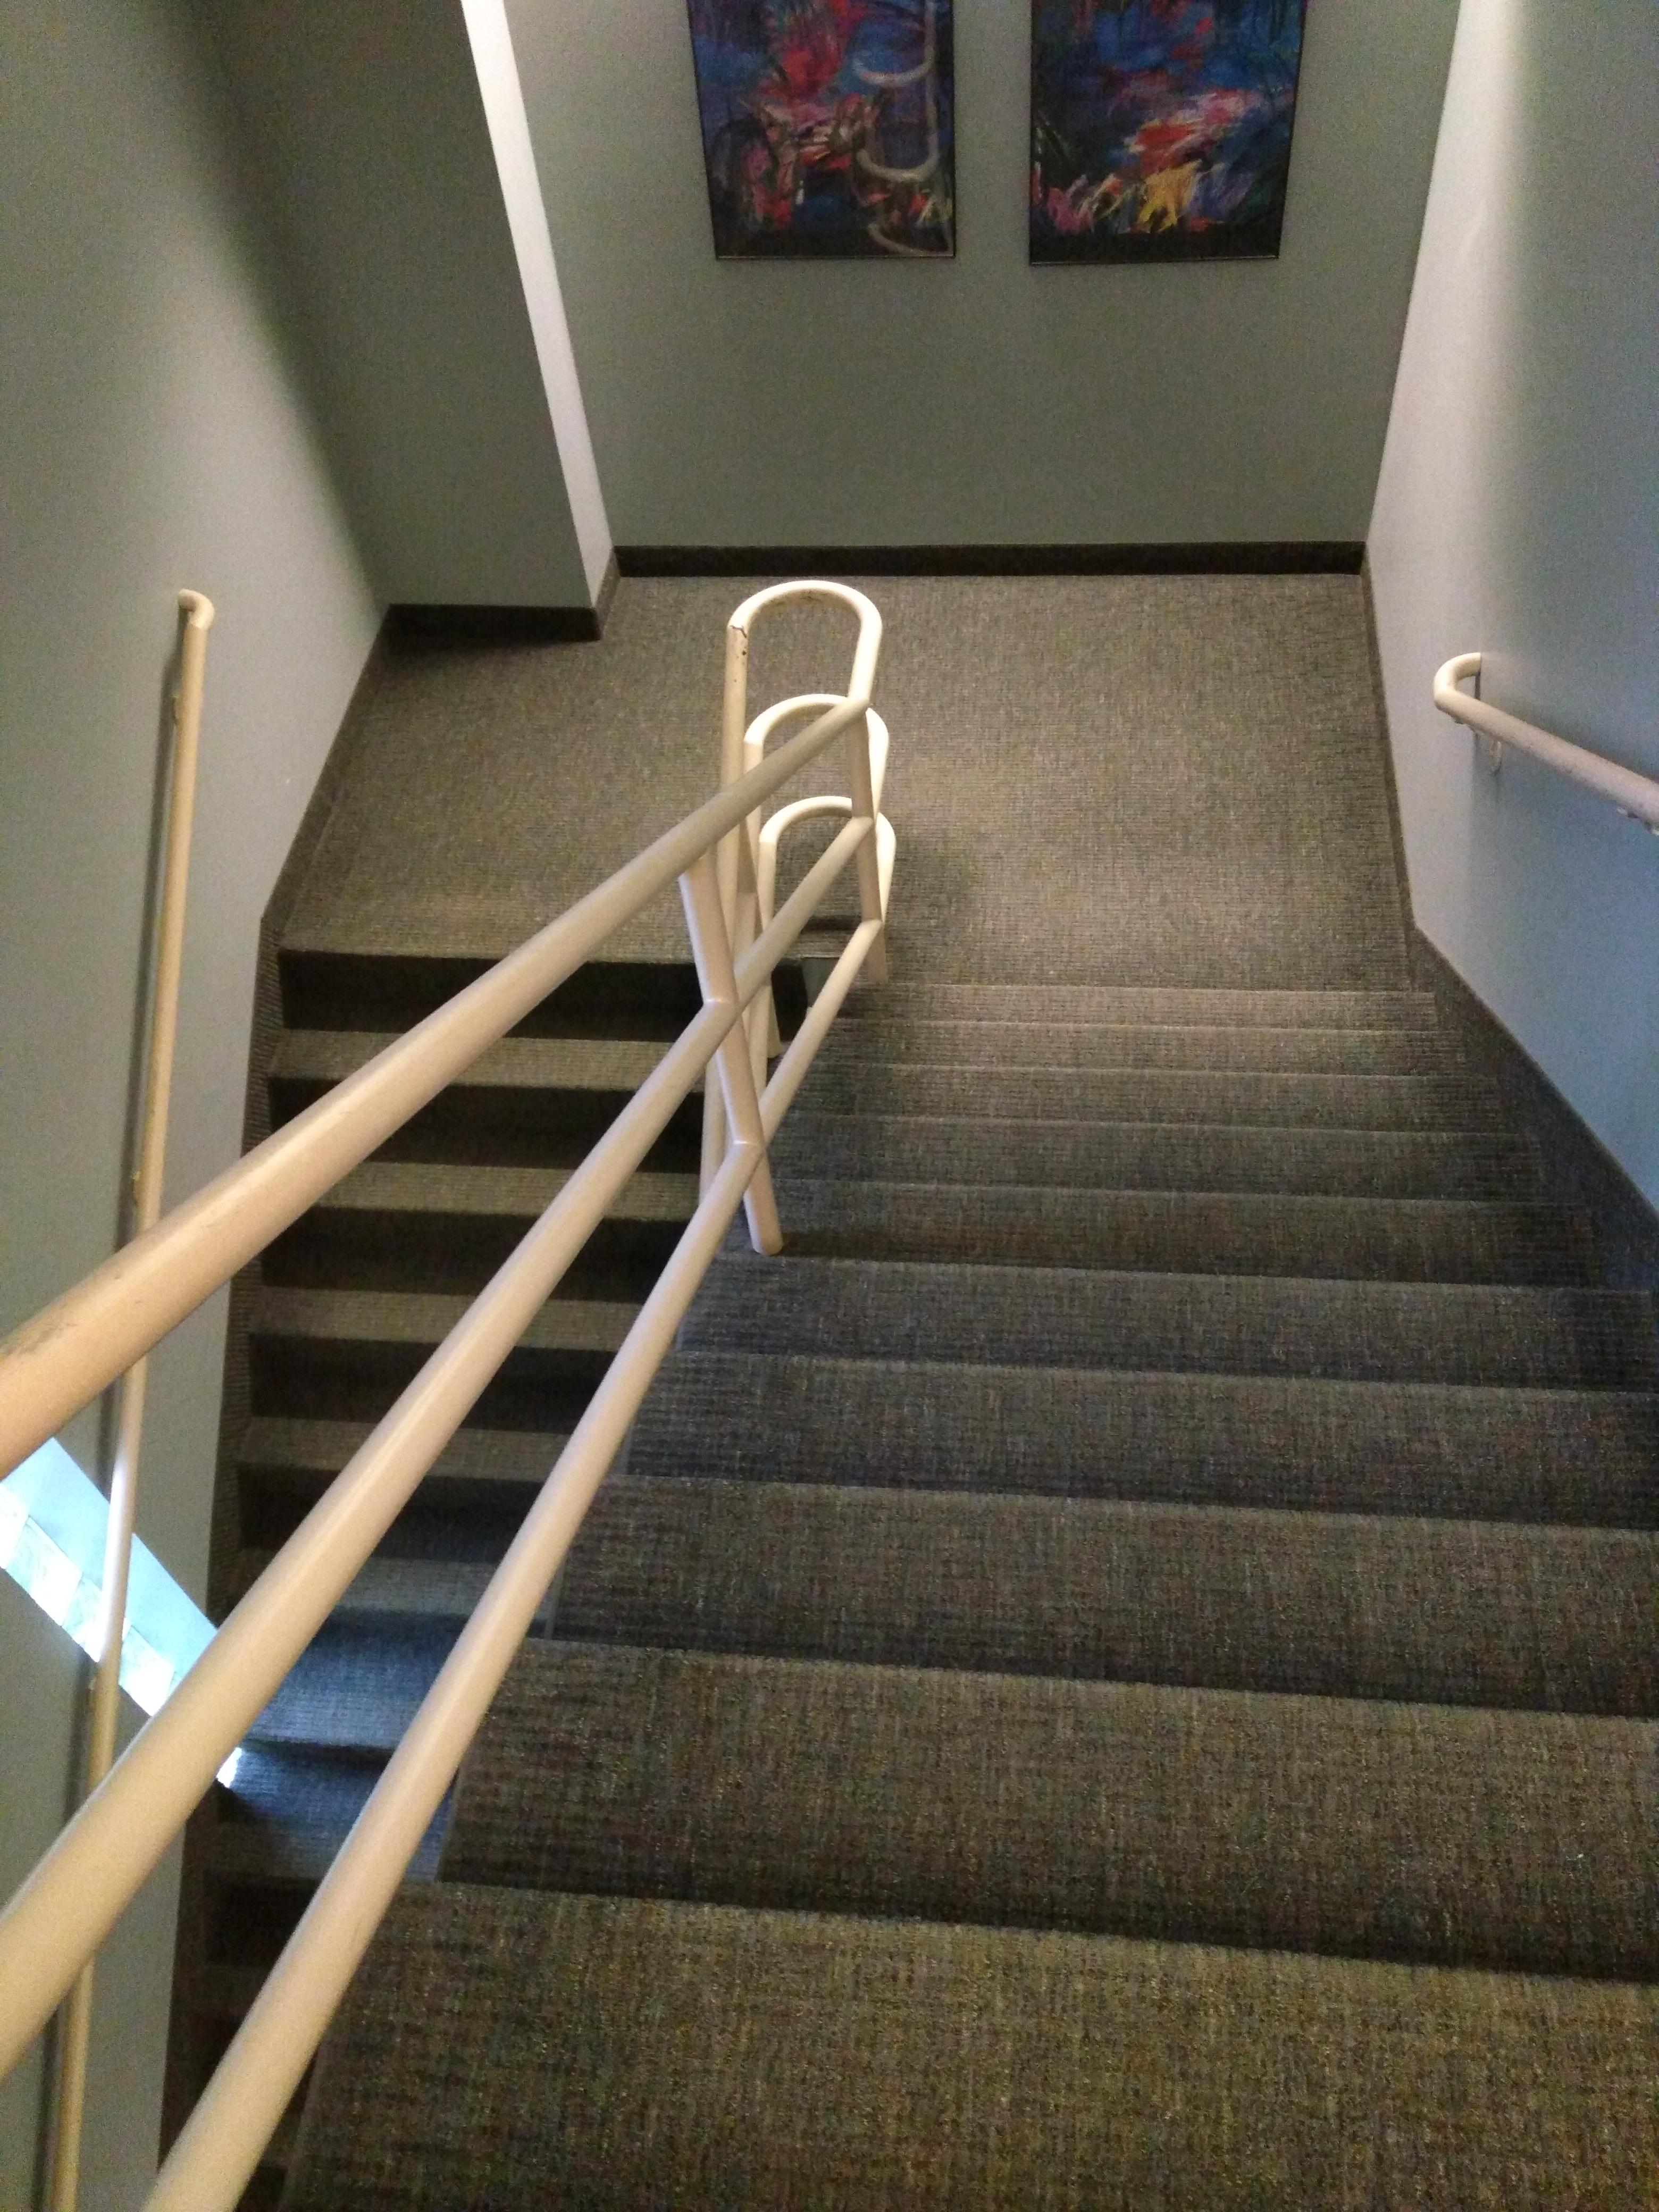stairs_down: (728, 930, 1659, 2006)
